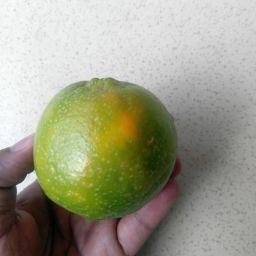Unripe: (34, 79, 178, 216)
